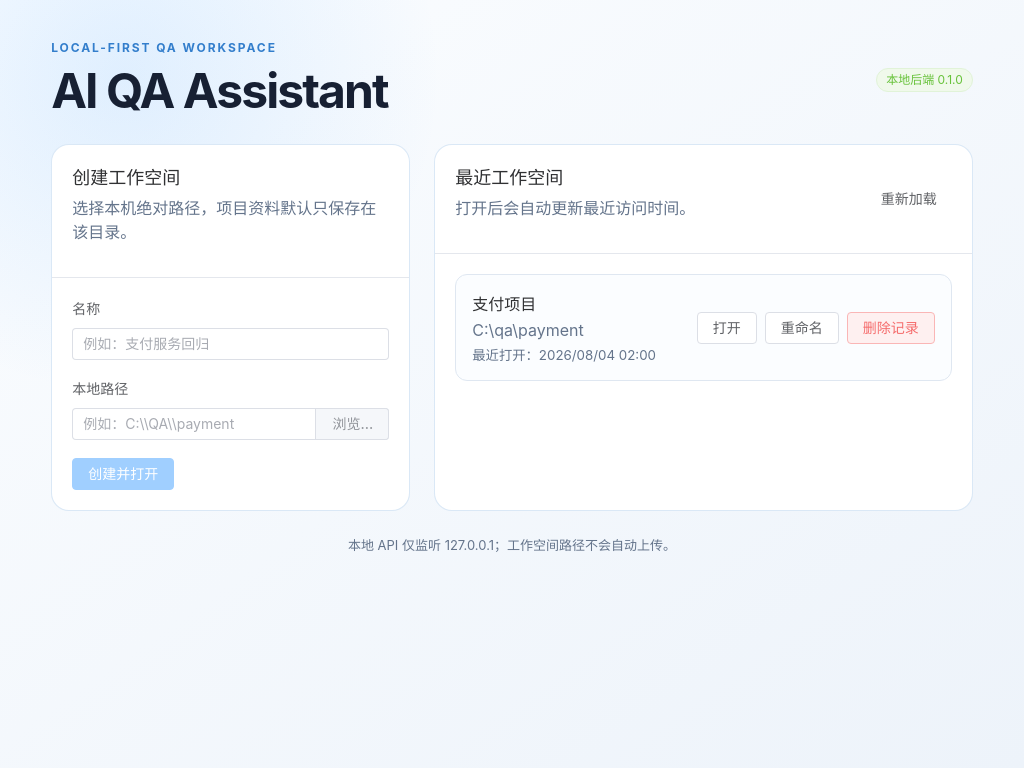
WorkspaceView › requires confirmation and explains that local files are preserved
Step 1. Click the button with test id "delete-workspace-workspace-1" → (891, 328), box [847, 312, 935, 344]
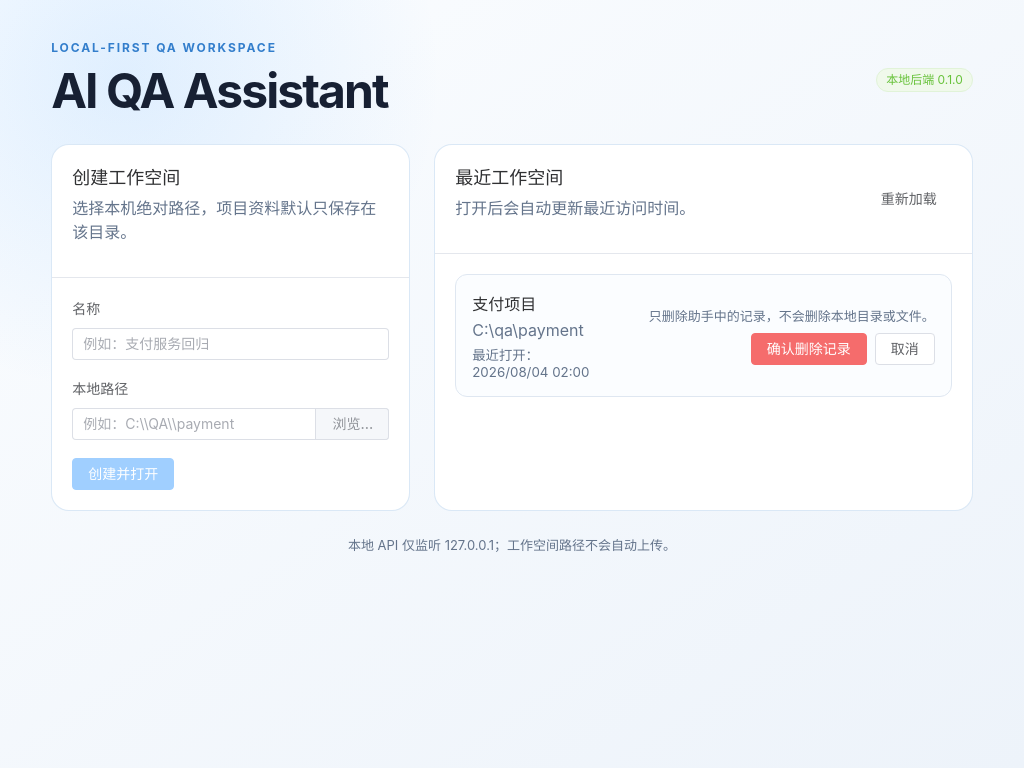
Check: the text "只删除助手中的记录，不会删除本地目录或文件" is shown, box [649, 308, 935, 324]
Step 2. Click the button with test id "confirm-delete-workspace-1" → (809, 349), box [751, 333, 867, 365]
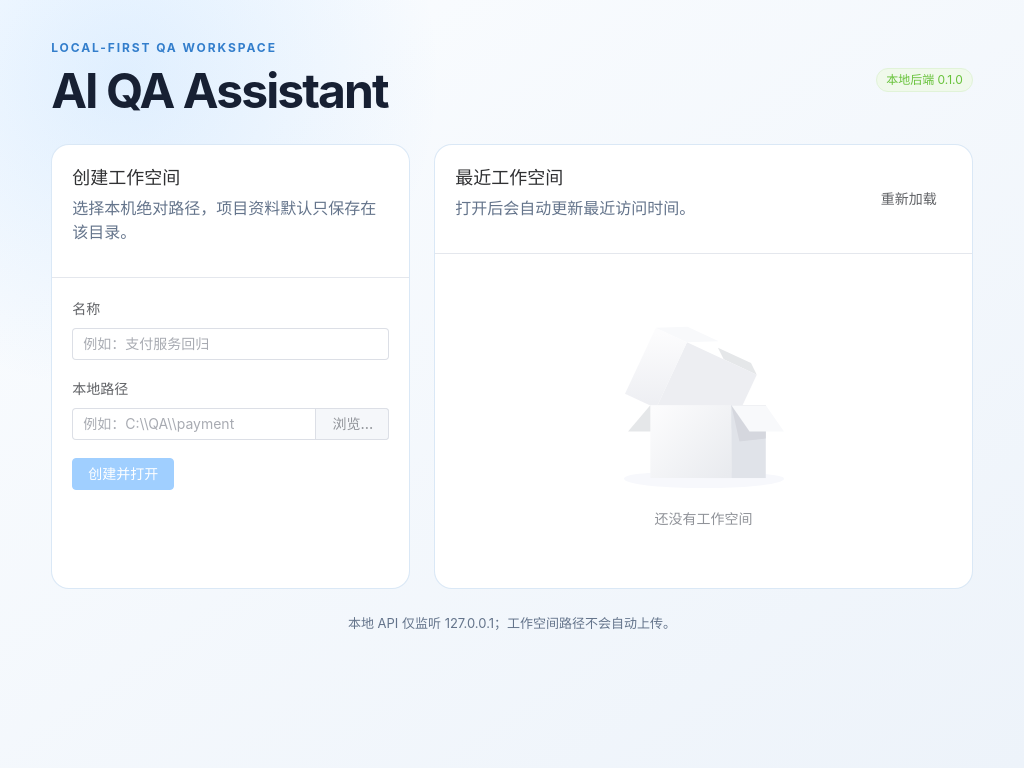
Check: the text "支付项目" is gone
